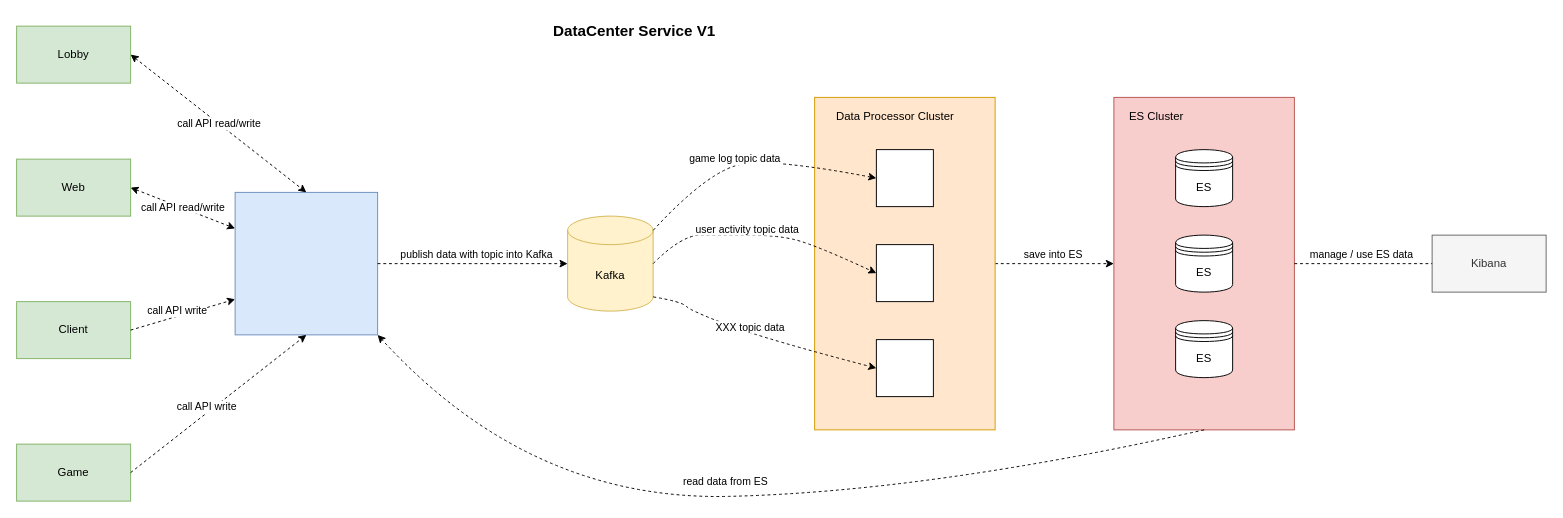
The diagram is 1563 pixels wide and 518 high, and some of its shapes have lost their labels. Here are the shapes that lost their labels. From the top down, the centre of each, then its label:
At (x=904, y=178): "Game Log Job".
At (x=306, y=263): "Scalable DataService".
At (x=904, y=273): "User Activity Job".
At (x=904, y=368): "XXX Job".
